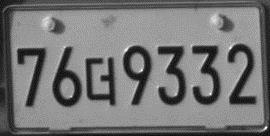2: (224, 41, 258, 106)
3: (188, 42, 222, 105), (155, 43, 186, 105)
6: (50, 45, 83, 108)
7: (15, 45, 48, 108)
9: (121, 44, 153, 106)
더: (83, 55, 118, 108)
